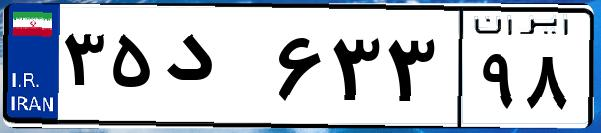3: (385, 28, 445, 110), (330, 28, 385, 110), (57, 26, 110, 100)
5: (110, 28, 158, 98)
6: (270, 28, 330, 110)
8: (525, 38, 570, 115)
9: (475, 38, 525, 113)
د: (158, 20, 270, 120)
